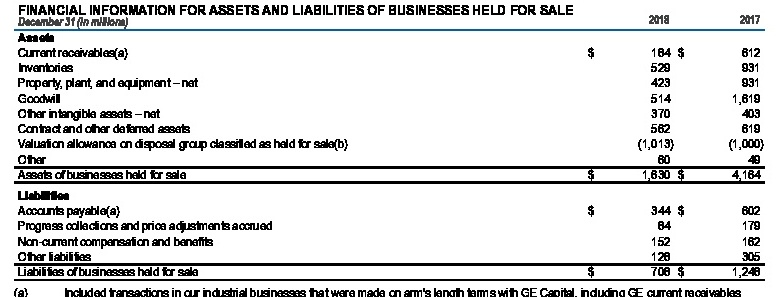table: (0, 0, 782, 297)
